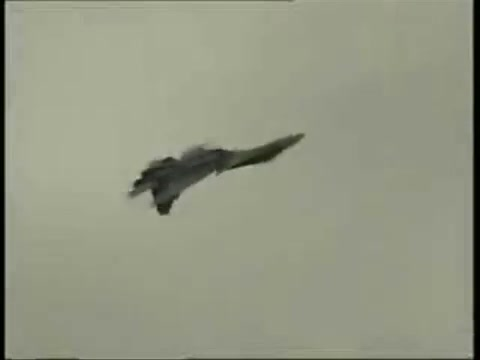aeroplane: (128, 128, 307, 220)
